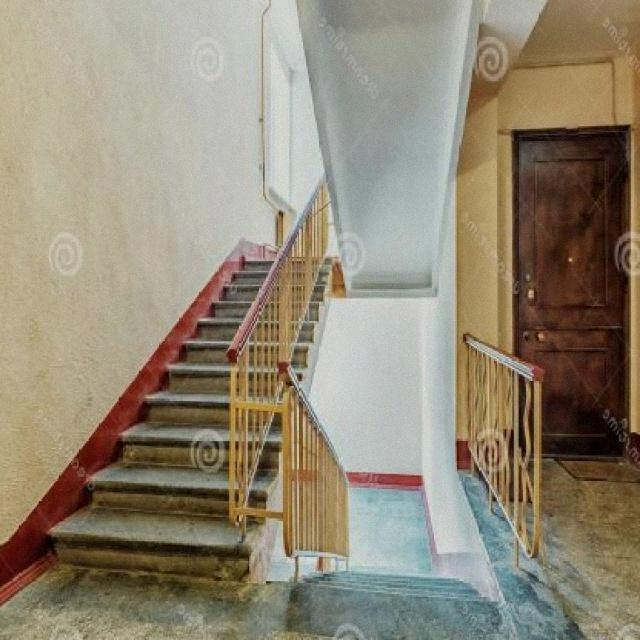stair: (23, 144, 334, 592), (294, 492, 488, 640)
